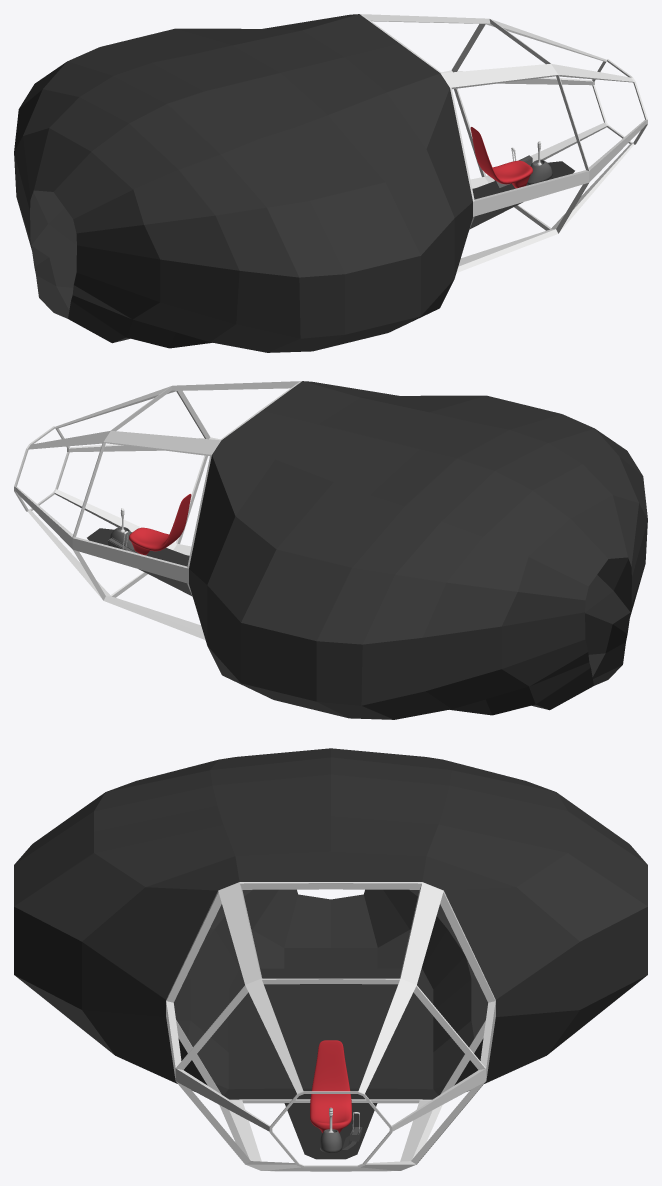
File: ship.fbx
The picture shows the model from 3 angles, top to bottom: view 1: azimuth 30°, elevation 25°; view 2: azimuth 150°, elevation 25°; view 3: azimuth 270°, elevation 25°; orthographic projection. The views are drawn at different scales.
Visible parts, largest first — view 1: Shell, Cage, Seat; view 2: Shell, Cage, Seat; view 3: Shell, Cage, Seat.
Part boxes in pixels (box(x1,y1,x2,y2)): Shell: box(14, 14, 574, 352); Cage: box(360, 14, 647, 272); Seat: box(470, 127, 532, 188); Shell: box(87, 381, 647, 719); Cage: box(14, 381, 301, 639); Seat: box(129, 494, 191, 555); Shell: box(14, 748, 647, 1159); Cage: box(166, 882, 495, 1171); Seat: box(310, 1040, 351, 1132).
Bounding box in the file's own units: 716 × 253 × 614.
